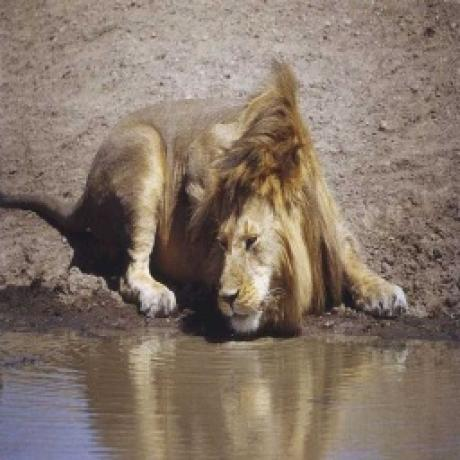Lion: (0, 60, 410, 334)
